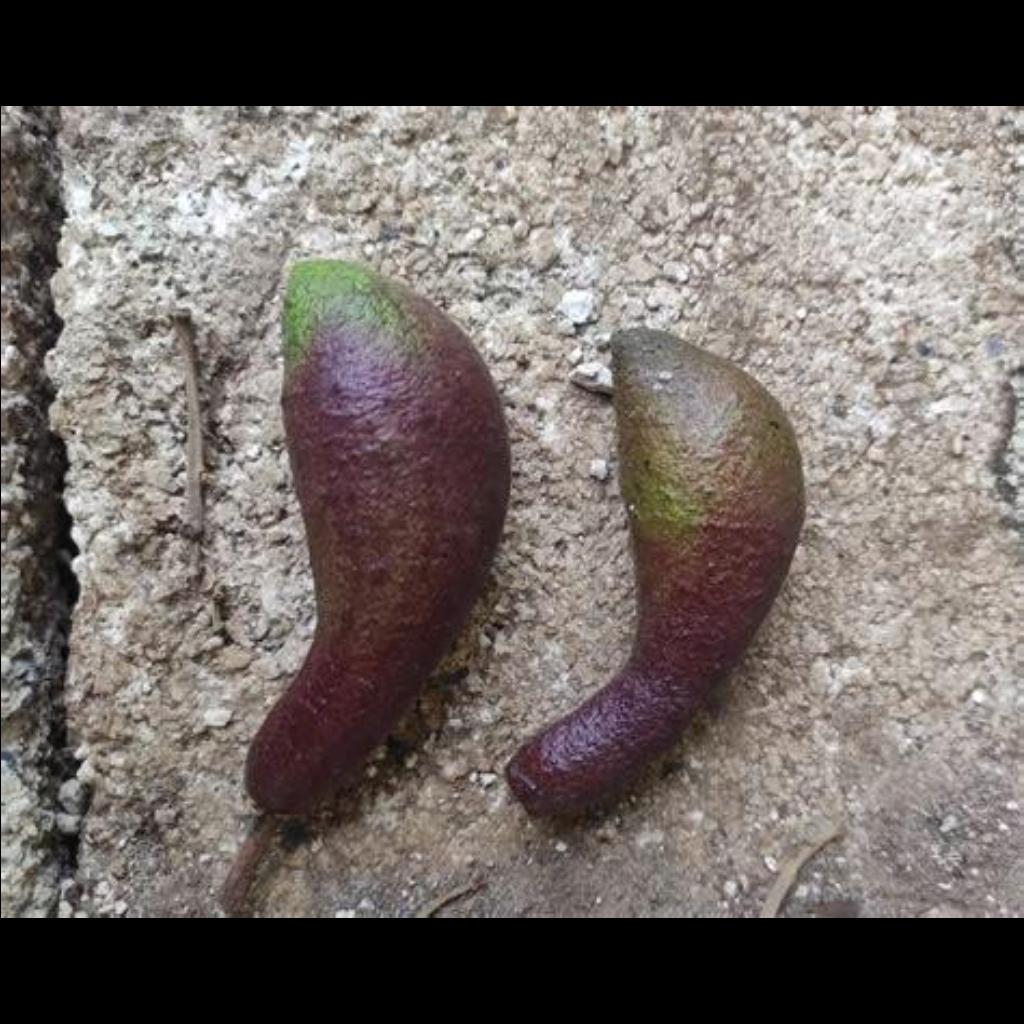Anthracnose: (554, 306, 810, 840), (266, 348, 498, 798)
